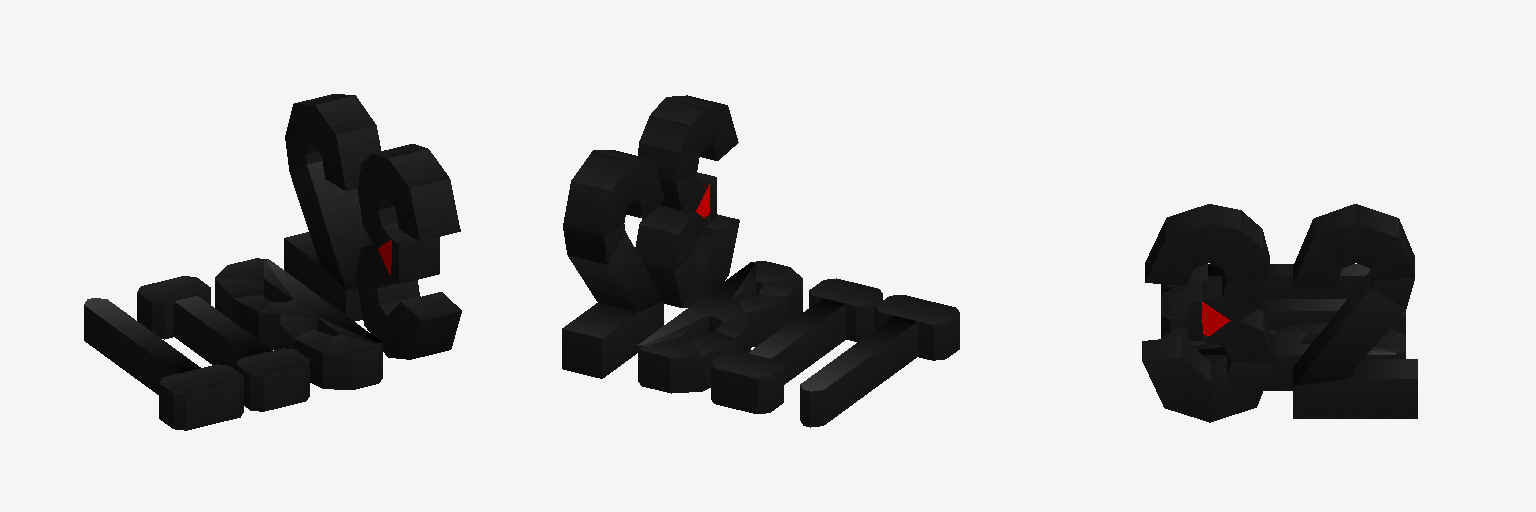
3 views of the same model, side by side, from view 1: azimuth 30°, elevation 25°; view 2: azimuth 150°, elevation 25°; view 3: azimuth 270°, elevation 25° (orthographic).
Visible parts, largest first — view 1: 32BitLogo_1; view 2: 32BitLogo_1; view 3: 32BitLogo_1.
Boxes of the visible parts, box(x1,y1,x2,y2) form: 32BitLogo_1: box(84, 94, 461, 430); 32BitLogo_1: box(562, 95, 959, 427); 32BitLogo_1: box(1142, 204, 1417, 422).
Size of the model in its own units: 2.12 by 1.47 by 1.85.
Materials: 1 (1 with a texture image).